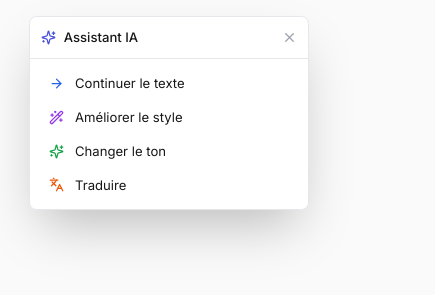
Test: AIContextMenu › Main Actions › should show translate submenu when clicking translate
Click the button "Traduire" at (101, 184), box [38,168,300,202]
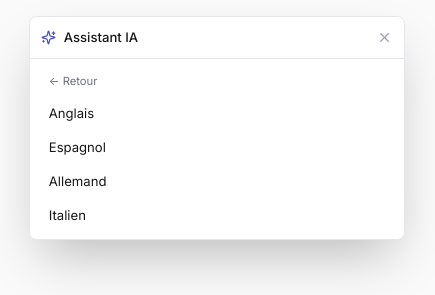
Result: the button "Anglais" is shown at [38,97,396,131]
Result: the button "Espagnol" is shown at [38,130,396,164]
Result: the button "Allemand" is shown at [38,164,396,198]
